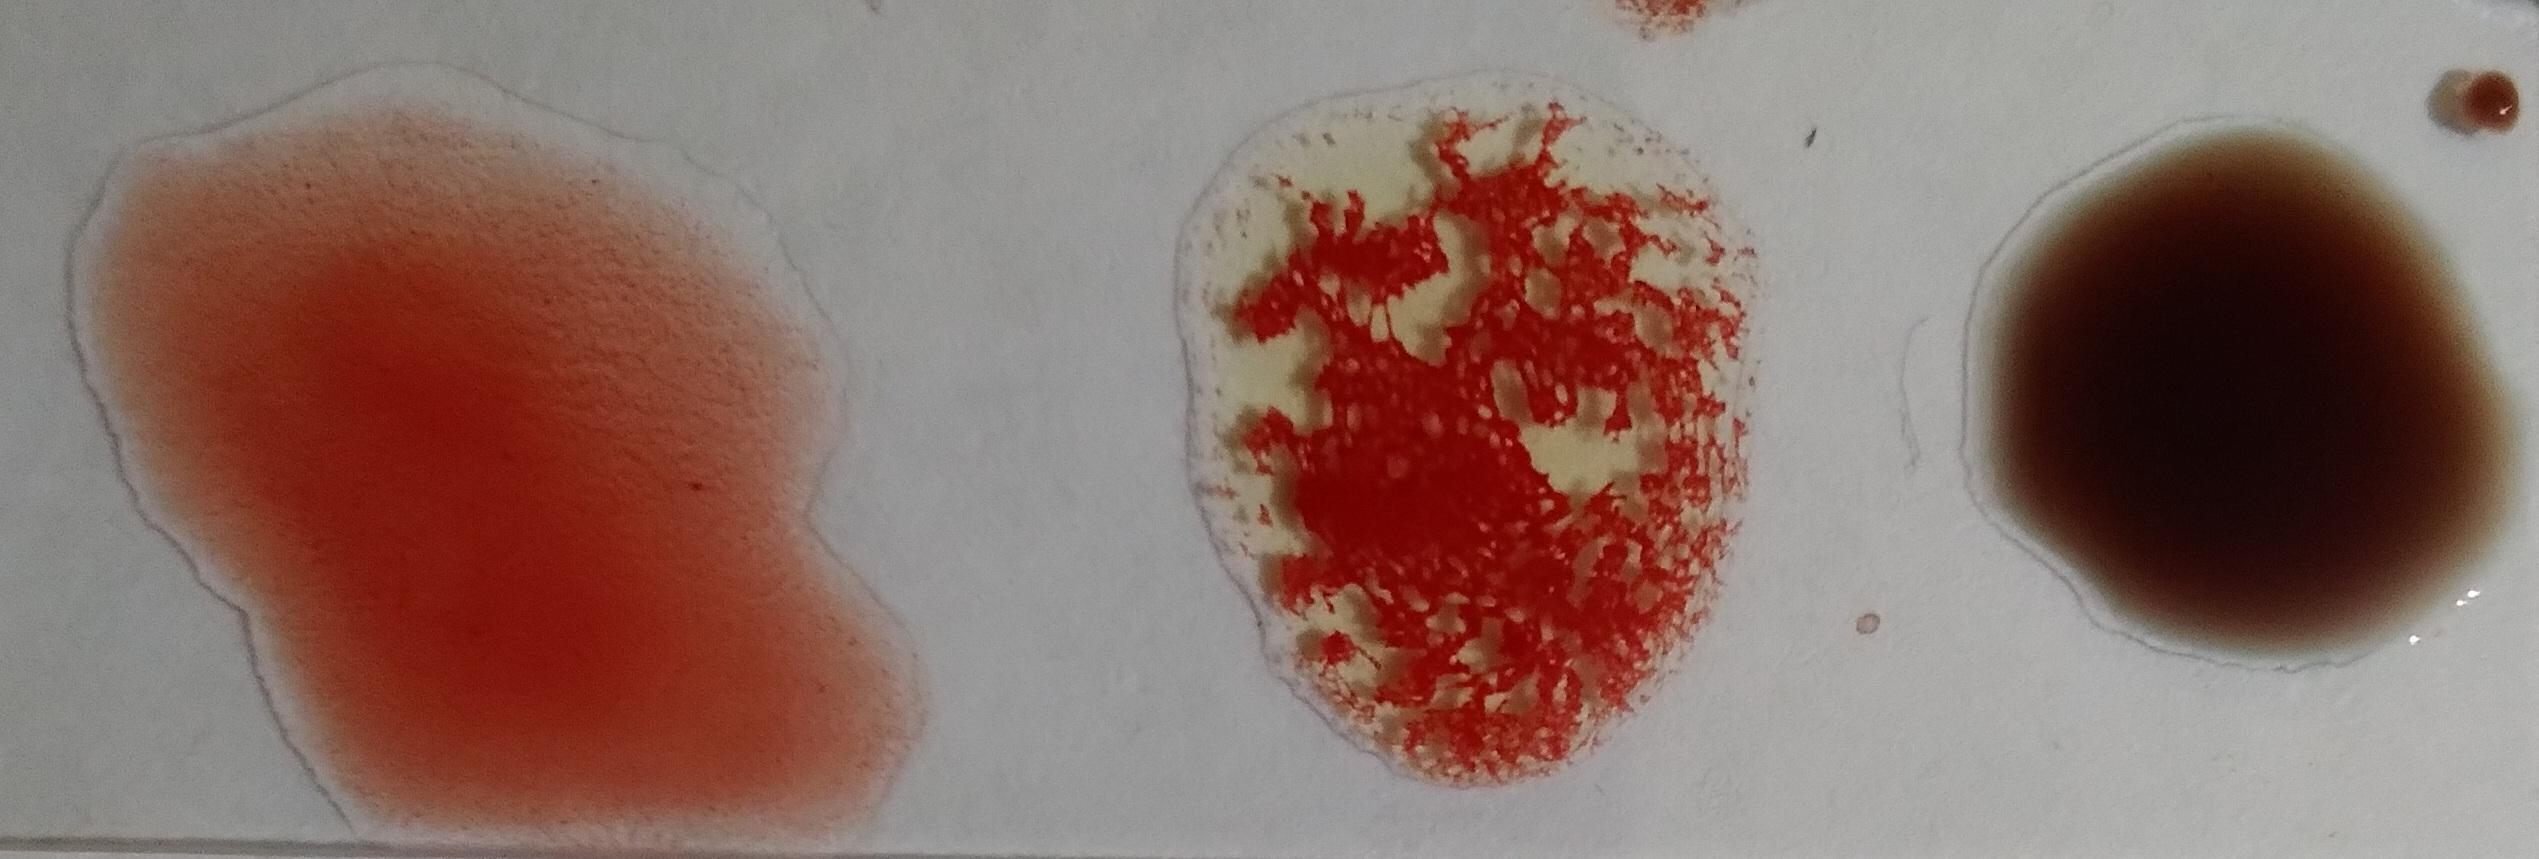B: (1195, 88, 1742, 783)
D: (130, 110, 836, 840)
